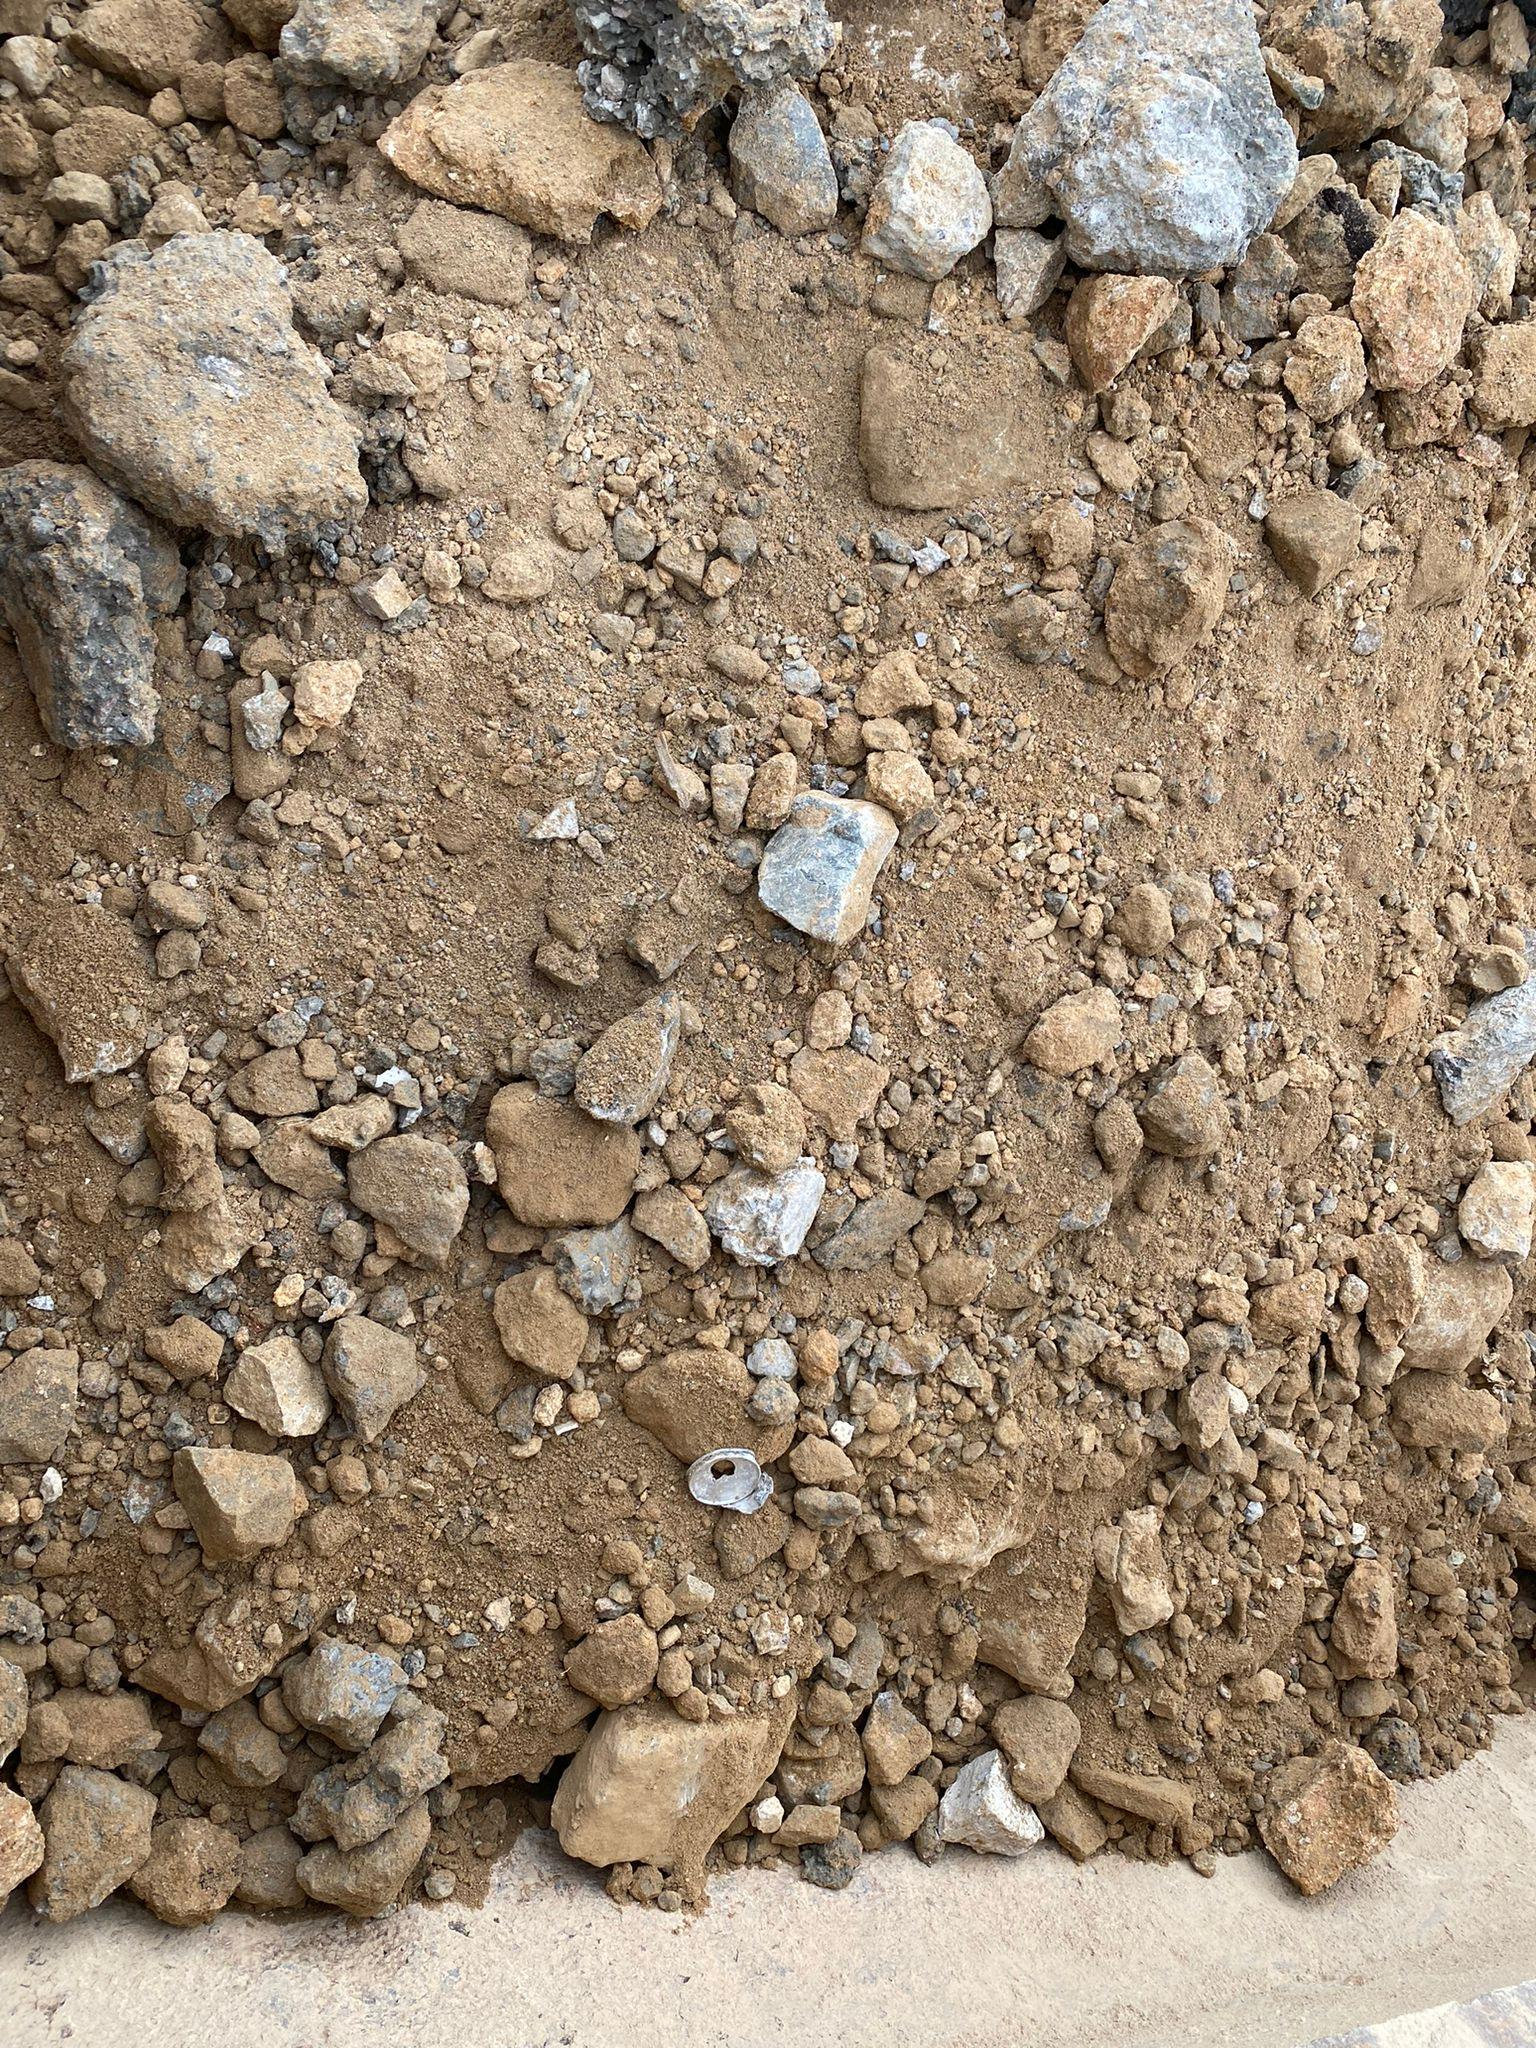dirt: (2, 2, 1533, 1961)
stone: (56, 226, 371, 553), (991, 0, 1300, 276), (374, 56, 665, 245), (854, 326, 1076, 511), (755, 787, 899, 943)
